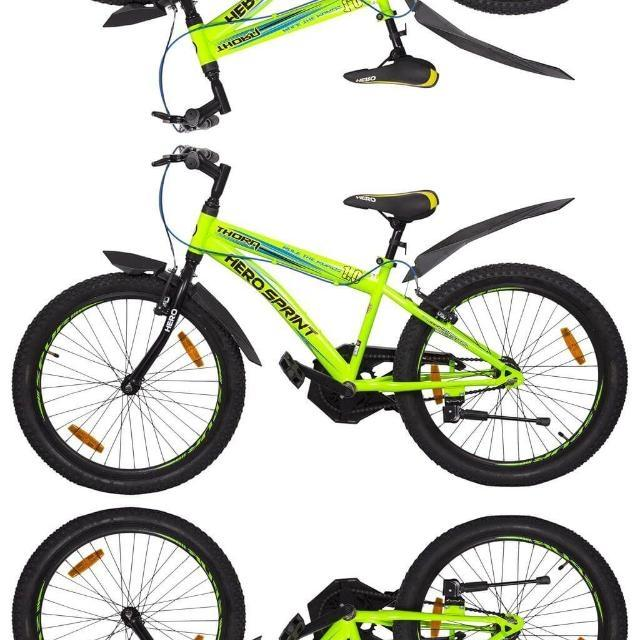obstacle: (2, 143, 638, 485), (2, 0, 637, 133), (2, 516, 637, 640)
